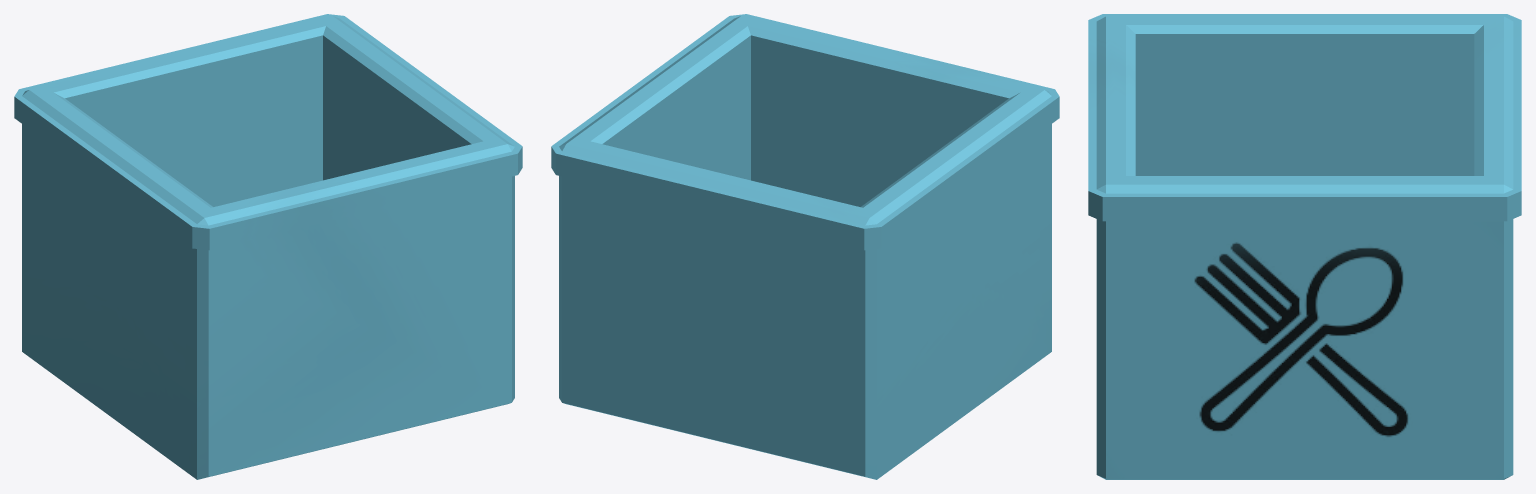
The model's file is FoodBin.fbx.
The picture shows the model from 3 angles, left to right: view 1: azimuth 30°, elevation 25°; view 2: azimuth 150°, elevation 25°; view 3: azimuth 270°, elevation 25°; orthographic projection. The views are drawn at different scales.
Visible parts, largest first — view 1: Bin; view 2: Bin; view 3: Bin.
Part boxes in pixels (x1,y1,x2,y2): Bin: (14, 14, 522, 479); Bin: (551, 14, 1059, 479); Bin: (1088, 14, 1521, 479).
Size of the model in its own units: 211 by 159 by 211.
